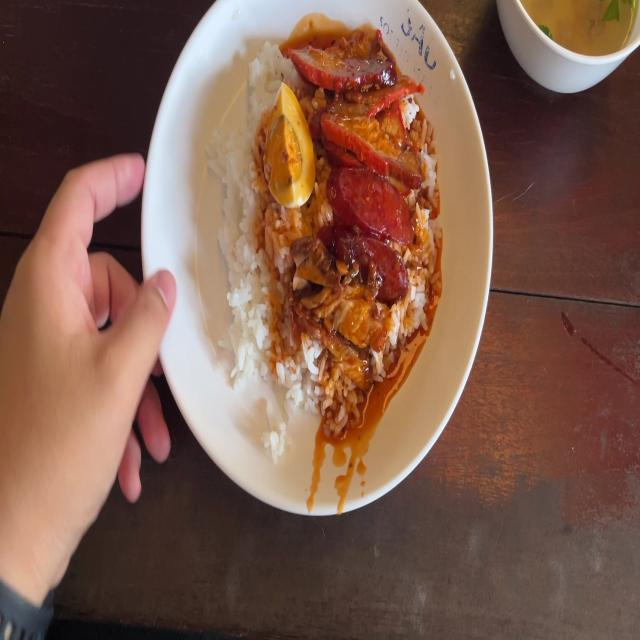01boiled_egg: (268, 87, 311, 209)
01chainese_sausage: (329, 175, 414, 285)
01crispy_pork: (305, 293, 388, 387), (296, 235, 330, 302)
01red_pork: (302, 46, 429, 173)
01red_pork_and_crispy_pork: (219, 53, 437, 413)
01rice: (226, 210, 299, 438), (225, 54, 265, 215)
